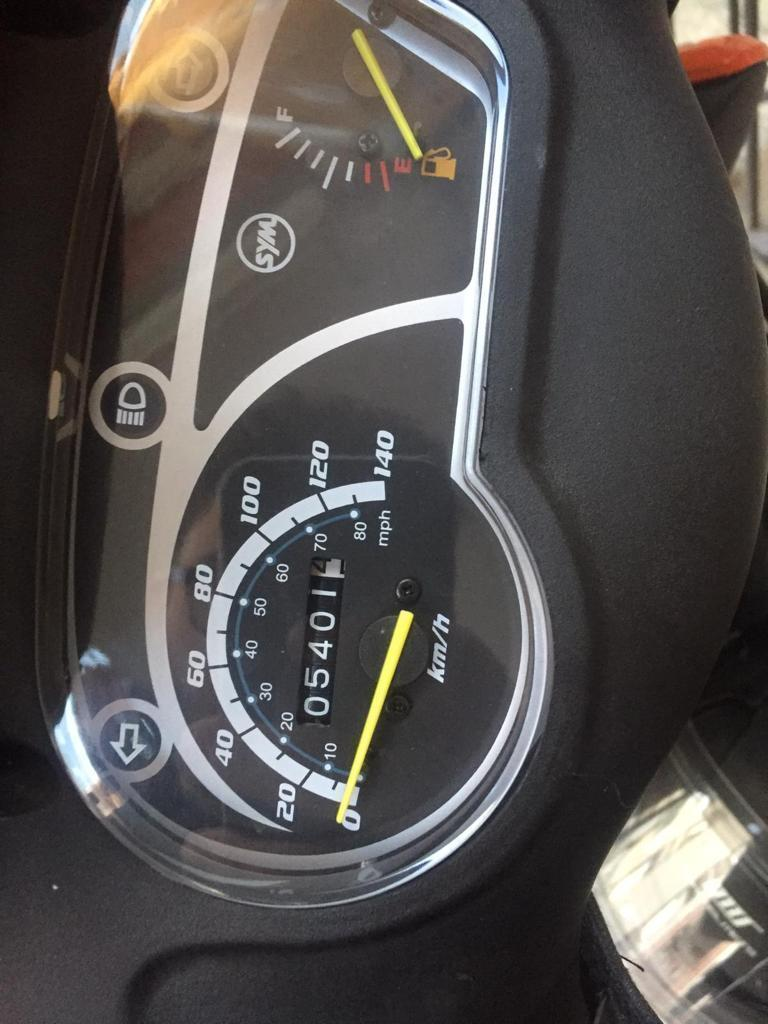0: (306, 608, 337, 633), (301, 695, 331, 717)
1: (306, 583, 340, 600)
4: (304, 637, 335, 662), (308, 554, 334, 575)
5: (301, 665, 330, 689)
odometer: (291, 552, 348, 730)
